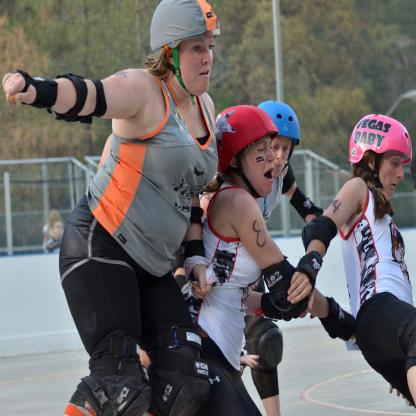Helmet: (150, 0, 222, 101), (216, 106, 281, 196), (350, 116, 408, 199), (256, 100, 300, 171)
